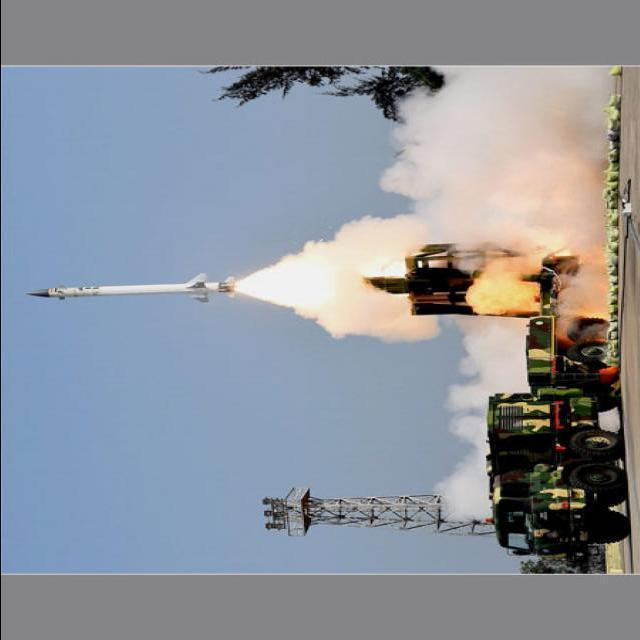missile: (24, 269, 239, 318)
